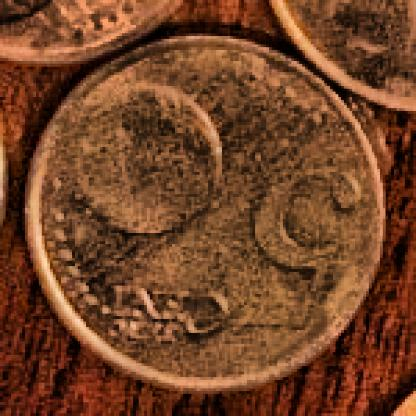coin: (27, 28, 392, 393)
